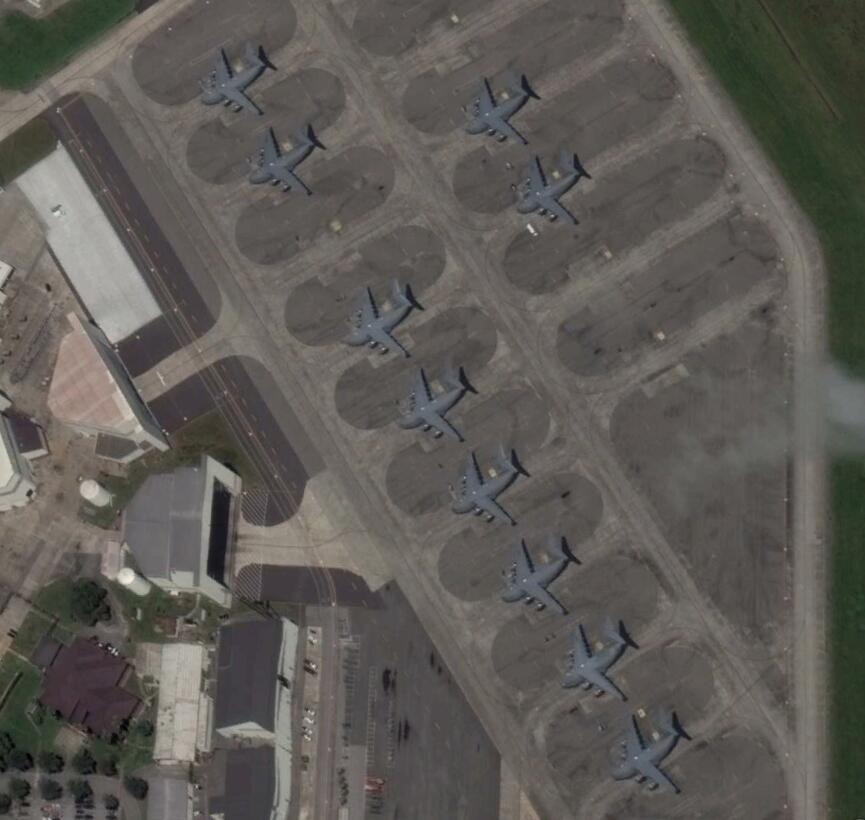A3: (608, 712, 688, 796), (342, 281, 421, 362), (449, 448, 528, 529), (499, 535, 574, 617), (560, 621, 635, 703), (398, 365, 476, 443), (464, 74, 541, 151), (515, 154, 592, 229), (199, 44, 275, 119), (252, 126, 321, 198)
